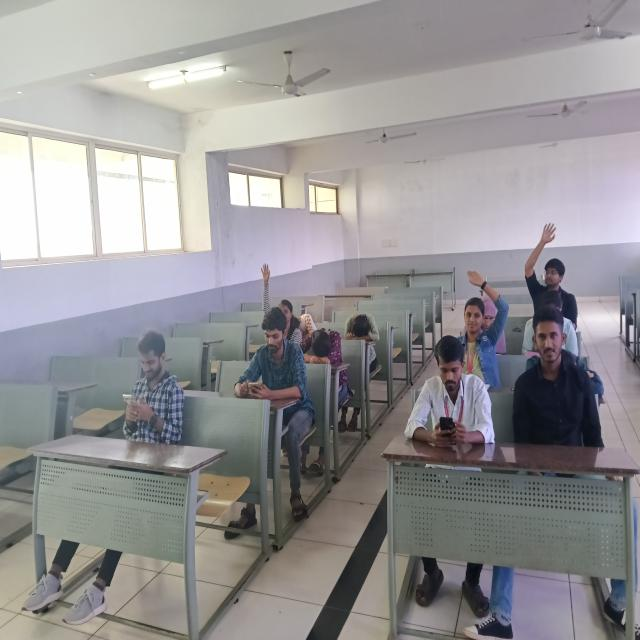Hand Rising: (519, 213, 589, 321), (448, 266, 514, 370), (258, 264, 300, 348)
Sleeping: (295, 313, 349, 380), (337, 300, 388, 356)
Using Phone: (99, 312, 203, 467), (408, 330, 507, 450), (235, 293, 316, 409)
